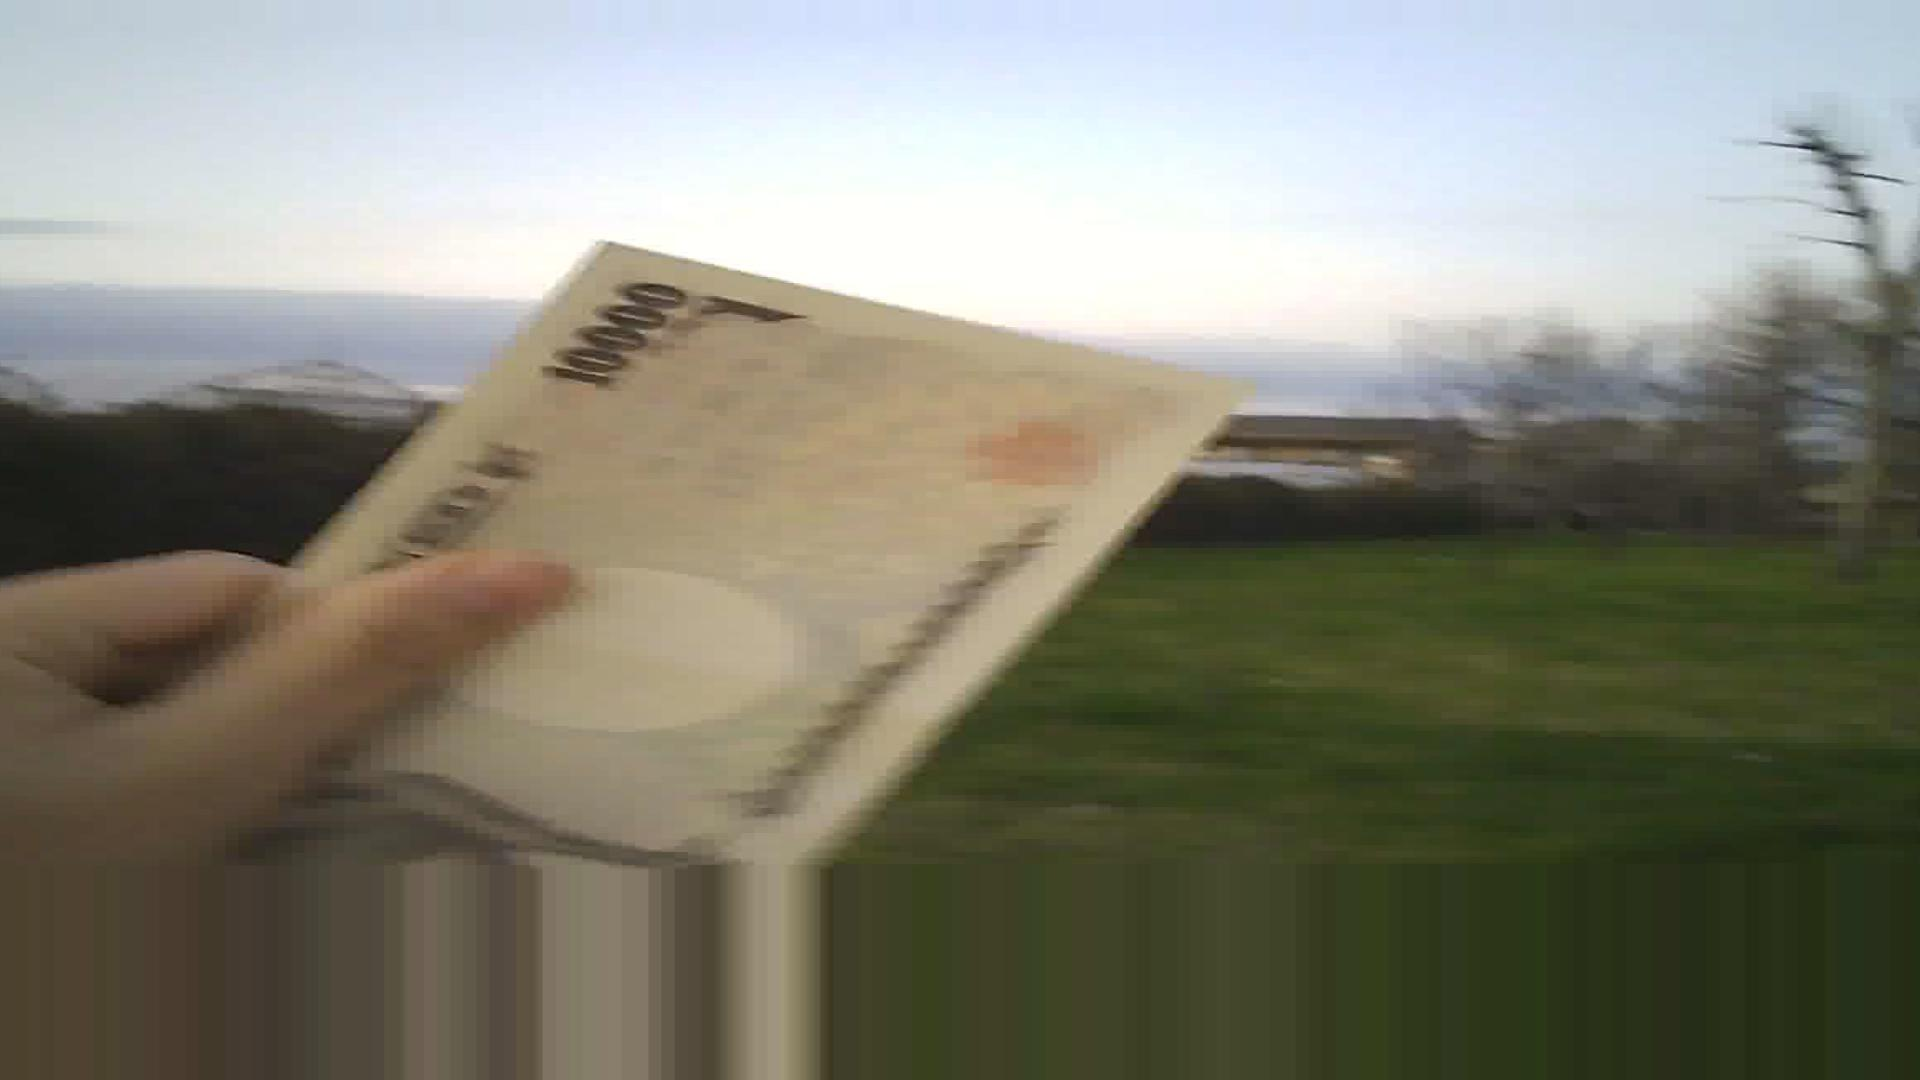10,000 Yen: (193, 195, 1147, 843)
